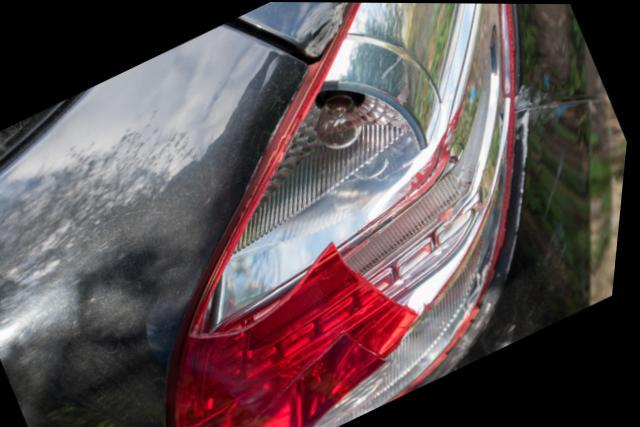dent: (290, 2, 343, 52)
lamp broken: (174, 2, 520, 427)
